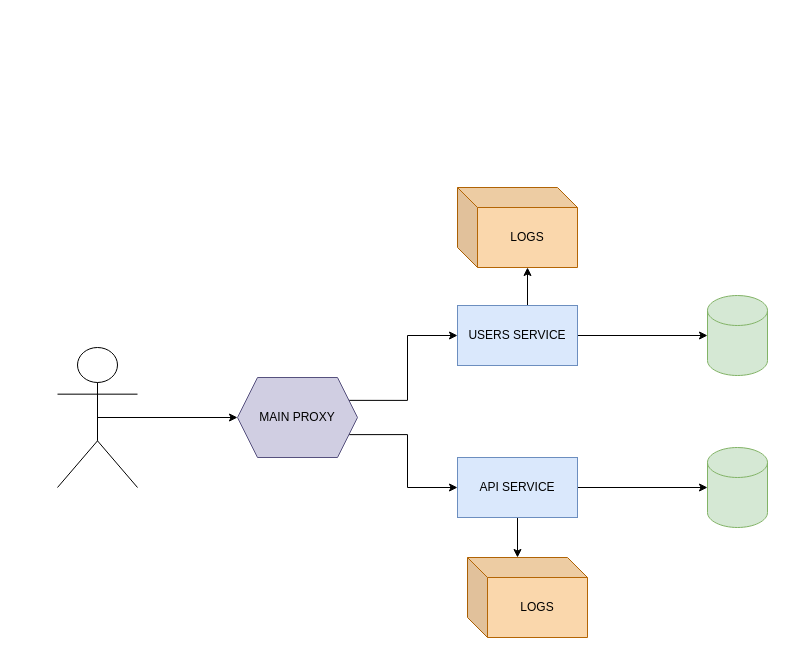
This 785x655 diagram has some shape labels left out. The shapes that lost their labels are listed below. From the top down, each one's box as (x1, y1, x2, y2) in pixels, then its label:
(706, 294, 768, 376): Users
(56, 346, 138, 488): User
(706, 446, 768, 528): Posts
